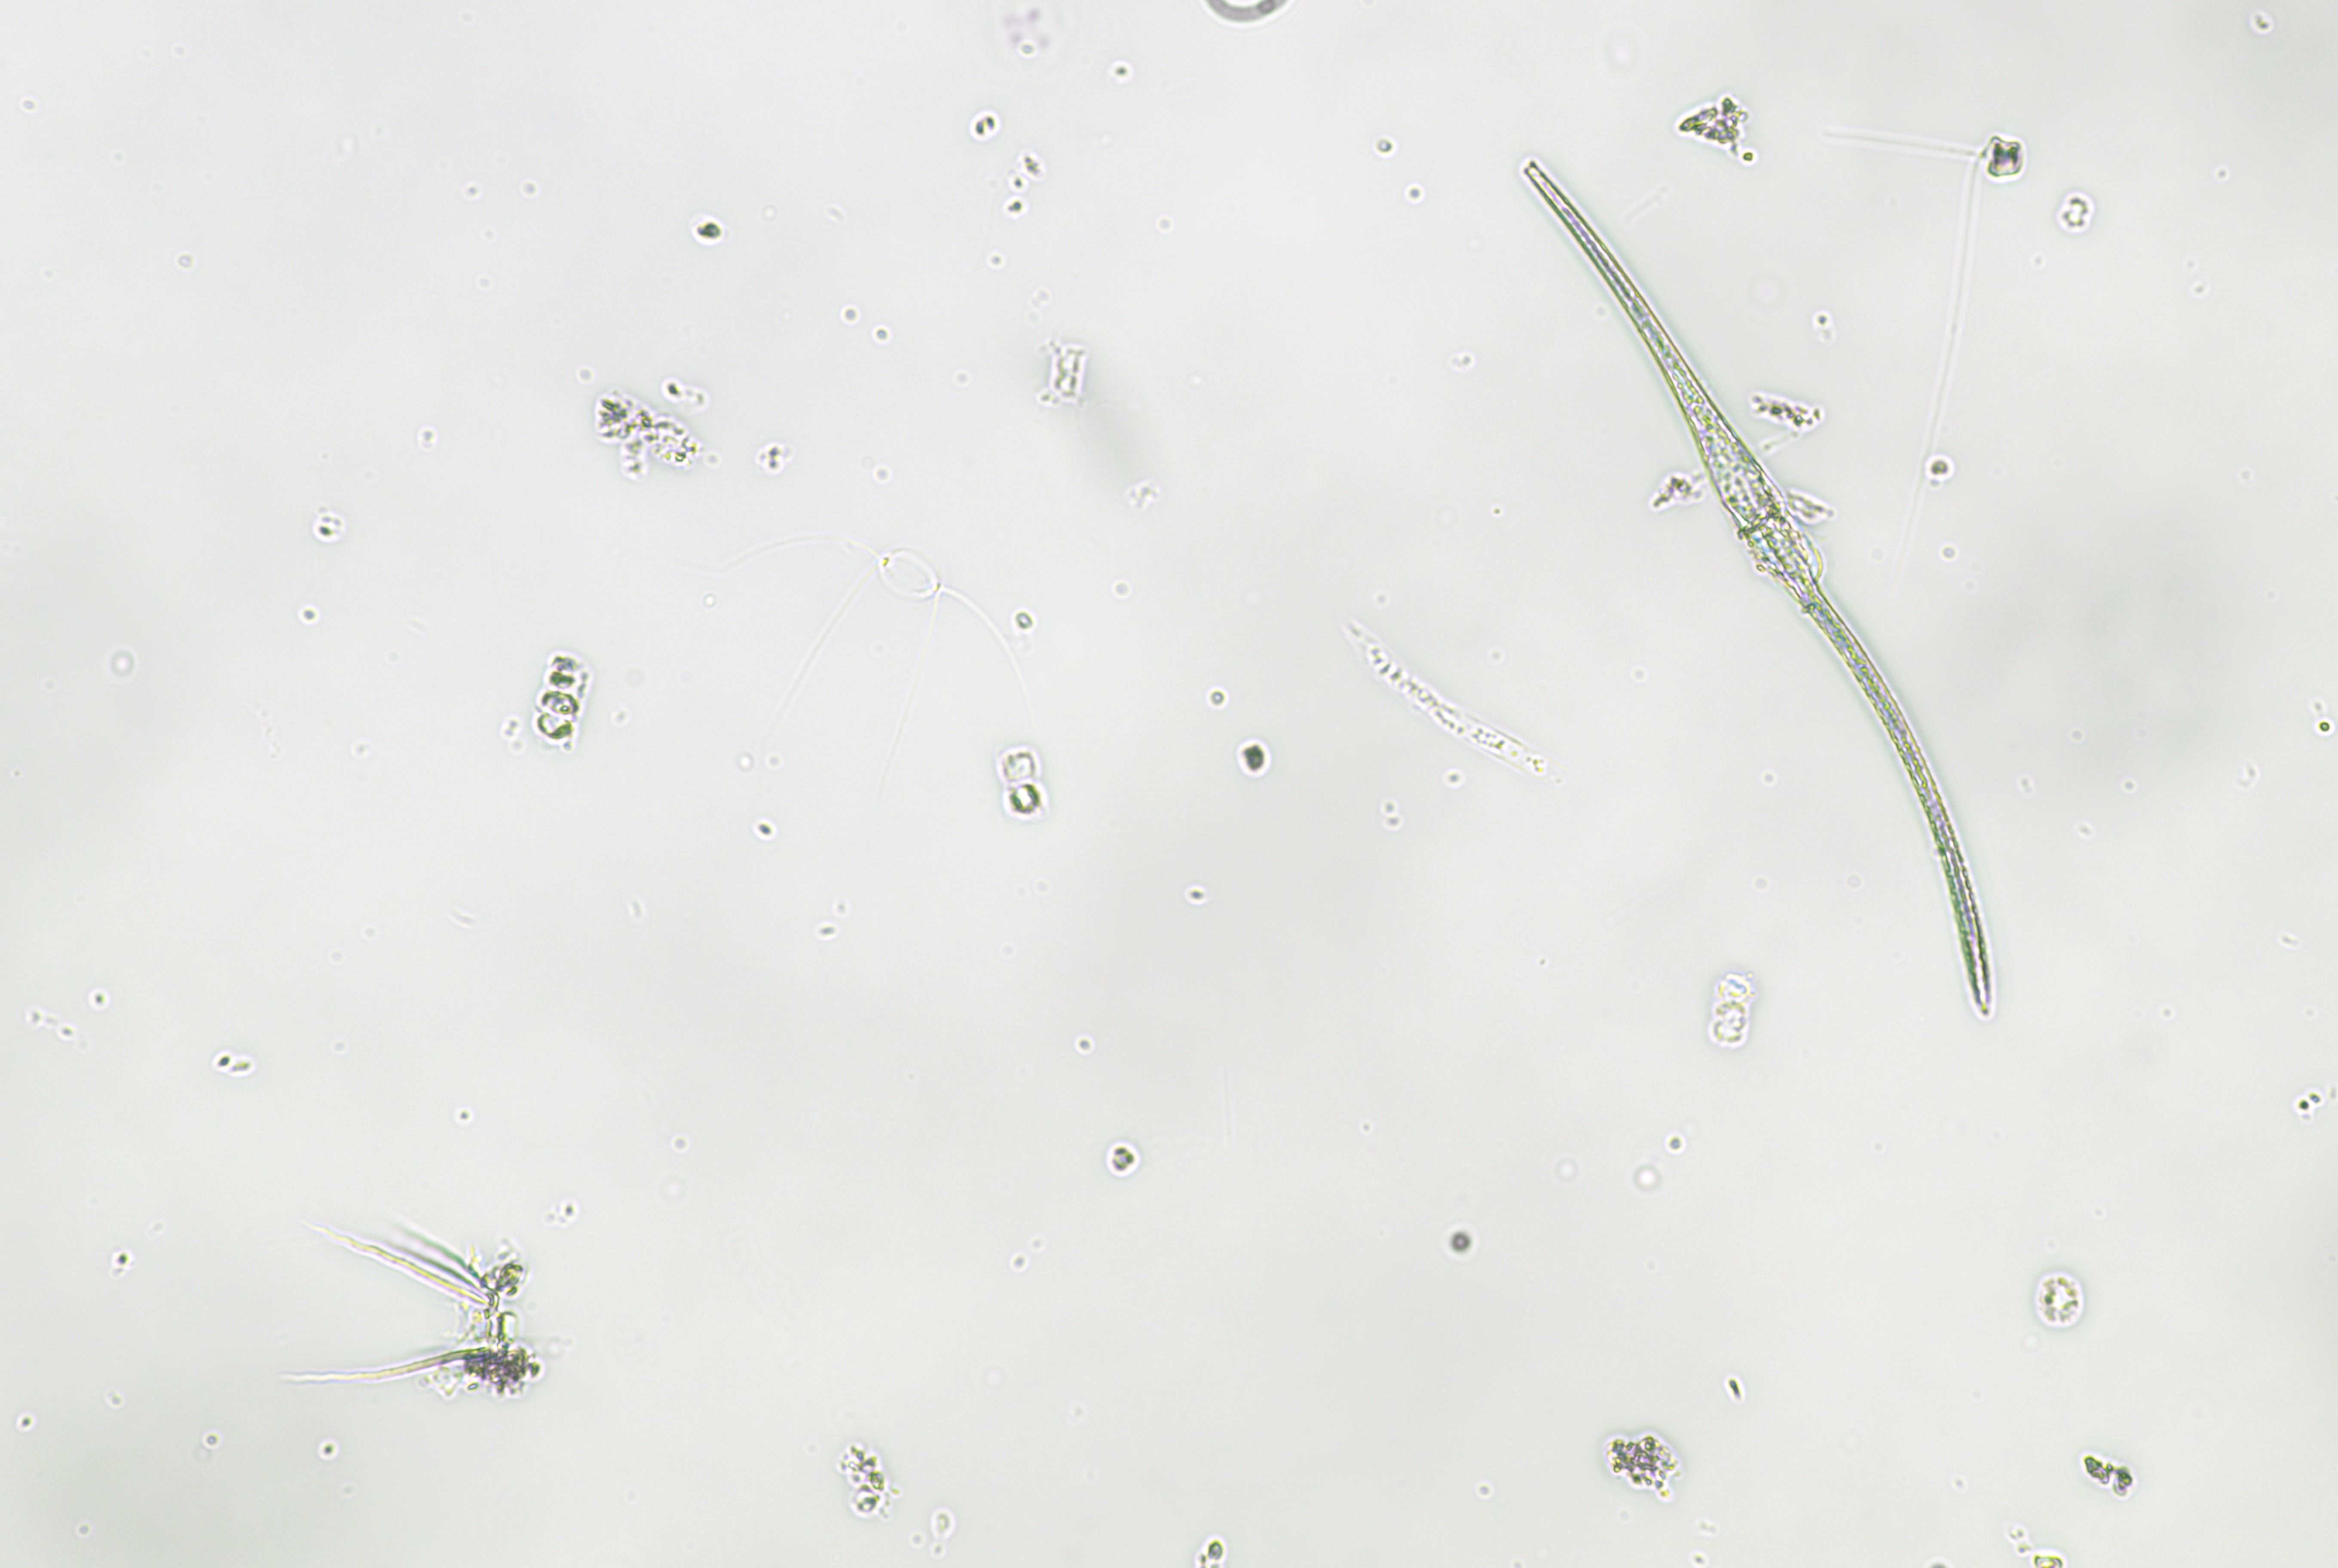ceratium fusus: (1514, 145, 2013, 1048)
